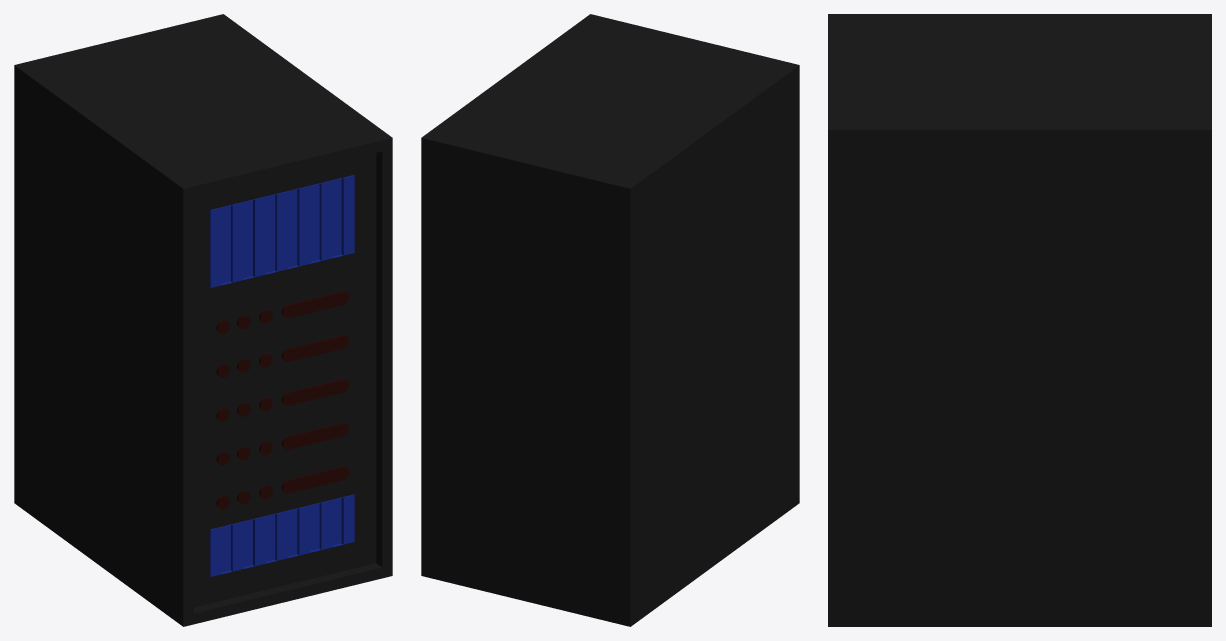
The model's file is CajaDatos.fbx.
3 views of the same model, side by side, from view 1: azimuth 30°, elevation 25°; view 2: azimuth 150°, elevation 25°; view 3: azimuth 270°, elevation 25° (orthographic). The views are drawn at different scales.
Visible parts, largest first — view 1: Box014; view 2: Box014; view 3: Box014.
Boxes of the visible parts, box(x1,y1,x2,y2) form: Box014: box(14, 14, 392, 626); Box014: box(421, 14, 799, 626); Box014: box(828, 14, 1211, 626).
Bounding box in the file's own units: 1 × 2 × 1.4.
